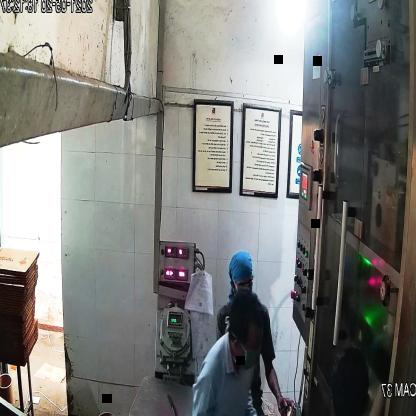goggles: (231, 274, 256, 294)
